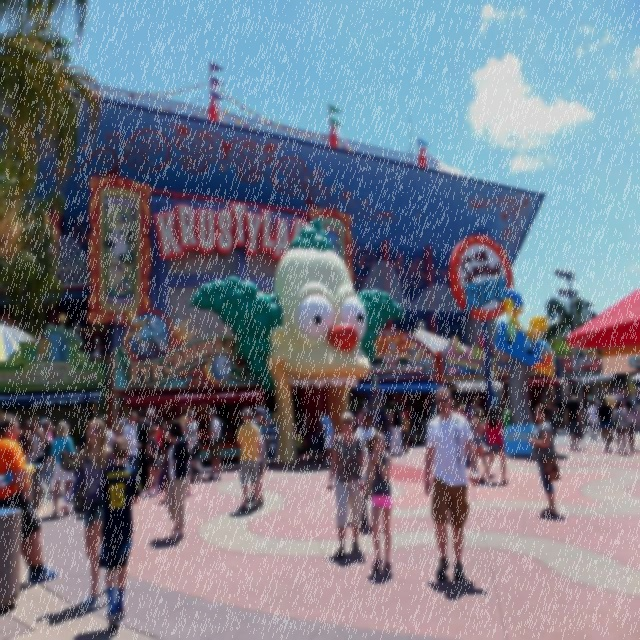pessoa: (186, 212, 412, 410), (59, 417, 116, 612), (423, 384, 479, 582), (0, 412, 57, 586), (98, 435, 140, 629), (324, 409, 366, 558), (526, 402, 562, 518), (365, 429, 394, 572), (502, 282, 548, 364), (162, 418, 192, 540), (103, 202, 135, 300), (477, 406, 512, 486), (50, 418, 77, 516), (236, 408, 261, 511), (469, 408, 496, 482), (77, 420, 99, 494), (144, 427, 164, 500), (204, 409, 224, 482), (293, 402, 315, 468), (122, 410, 142, 478), (355, 409, 378, 466), (253, 421, 268, 508), (136, 408, 151, 492), (620, 394, 640, 454), (316, 410, 336, 468), (612, 401, 632, 456), (564, 394, 582, 452), (386, 401, 404, 458), (596, 396, 614, 452), (42, 418, 54, 494), (146, 415, 164, 460), (30, 415, 46, 465), (163, 416, 190, 444), (608, 383, 640, 406), (145, 406, 167, 436), (183, 408, 200, 446), (100, 414, 118, 449), (586, 398, 600, 442), (382, 405, 394, 448), (252, 405, 268, 437), (548, 394, 556, 454), (18, 421, 32, 454), (449, 398, 468, 422), (400, 409, 410, 454), (111, 416, 128, 441), (190, 452, 206, 477), (600, 388, 618, 410), (356, 402, 369, 429), (470, 397, 480, 419), (428, 402, 440, 419), (634, 404, 640, 432)
